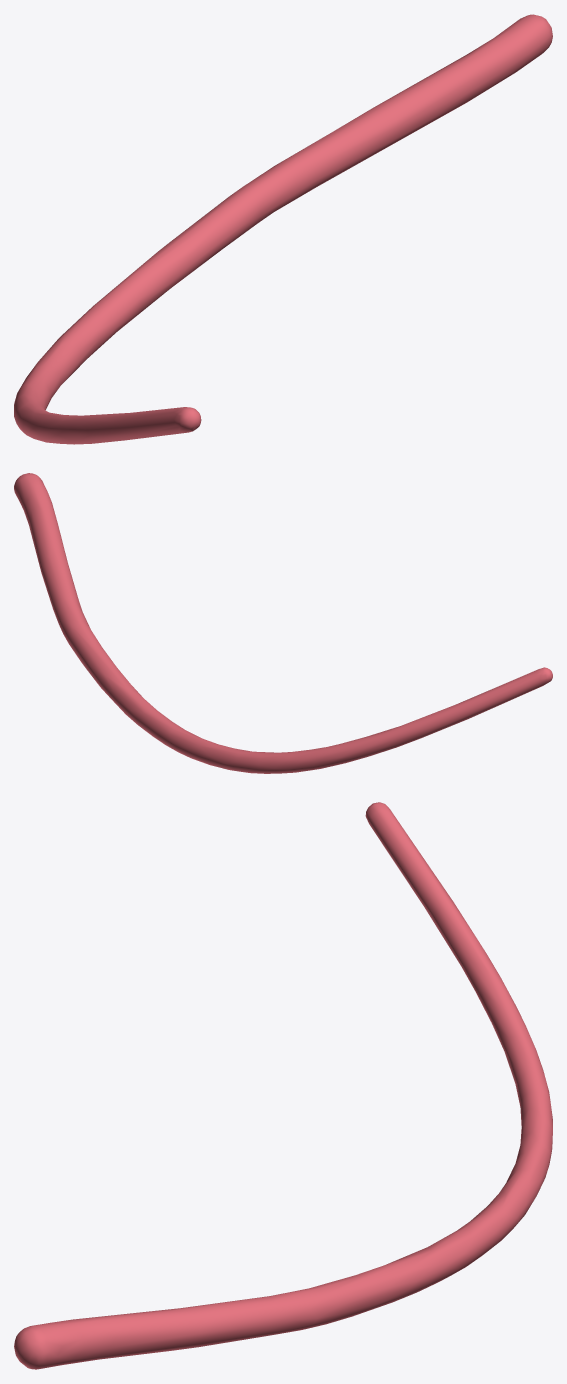
File: fma22685_fj2291.glb
3 renders of one model, top to bottom at view 1: azimuth 90°, elevation 25°; view 2: azimuth 150°, elevation 25°; view 3: azimuth 270°, elevation 25°, orthographic. The views are drawn at different scales.
Visible parts, largest first — view 1: FMA22685_FJ2291; view 2: FMA22685_FJ2291; view 3: FMA22685_FJ2291.
Part boxes in pixels (left/top/right/bottom): FMA22685_FJ2291: left=14, top=14, right=552, bottom=444; FMA22685_FJ2291: left=14, top=473, right=552, bottom=773; FMA22685_FJ2291: left=14, top=802, right=552, bottom=1369.
Size of the model in its own units: 0.0511 by 0.00989 by 0.0246.
